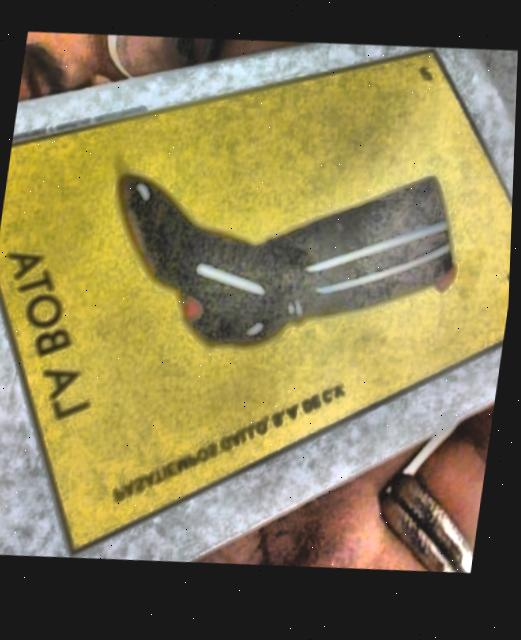La Bota: (0, 55, 514, 551)
